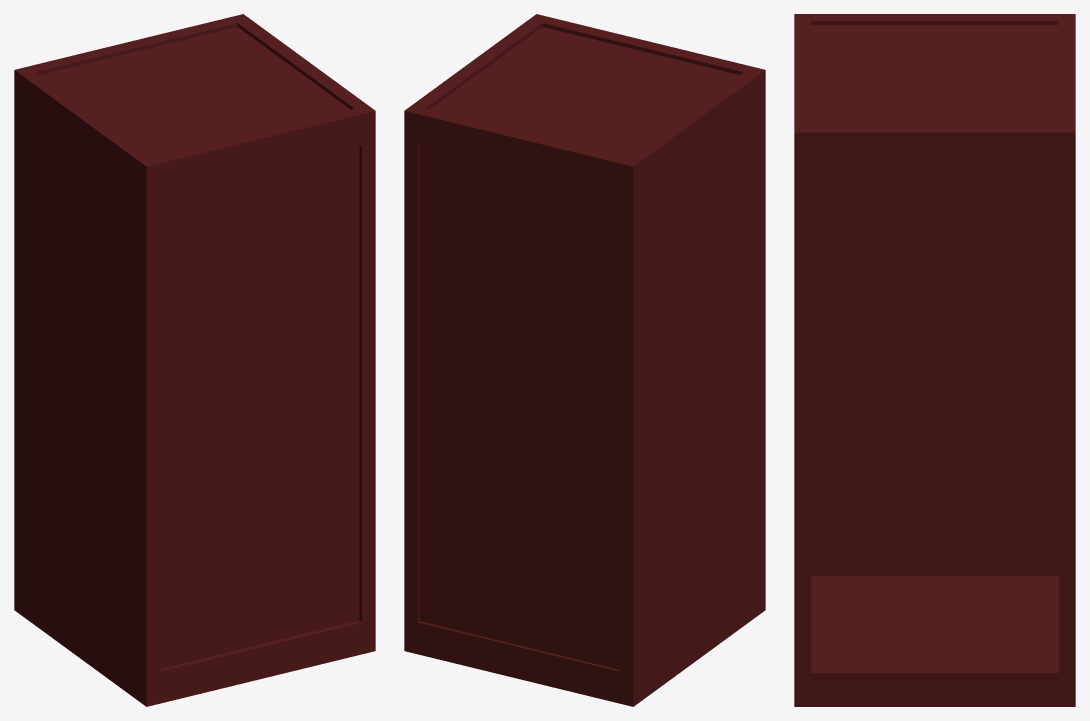
3 views of the same model, side by side, from view 1: azimuth 30°, elevation 25°; view 2: azimuth 150°, elevation 25°; view 3: azimuth 270°, elevation 25° (orthographic). The views are drawn at different scales.
Parts seen in each view (by area): view 1: Cube; view 2: Cube; view 3: Cube.
Boxes of the visible parts, left/top/right/bottom form: Cube: left=14, top=14, right=375, bottom=706; Cube: left=404, top=14, right=765, bottom=706; Cube: left=794, top=14, right=1075, bottom=706.
Bounding box in the file's own units: 200 × 451 × 200.
